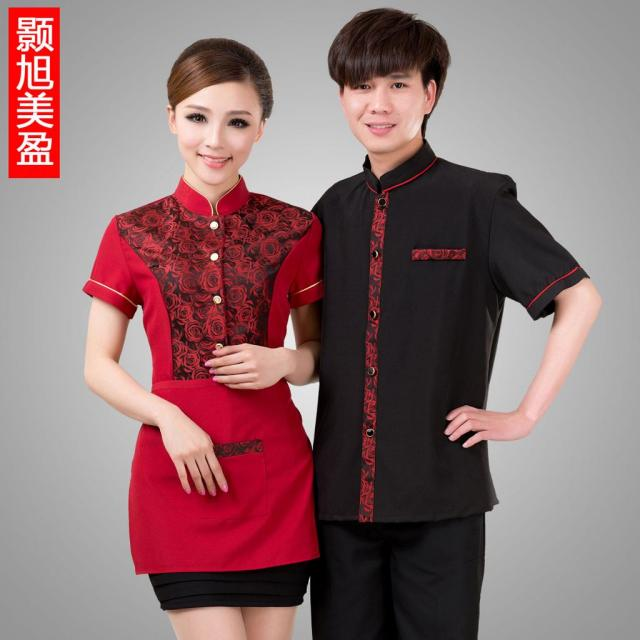nomask: (175, 81, 264, 185), (343, 56, 425, 152)
